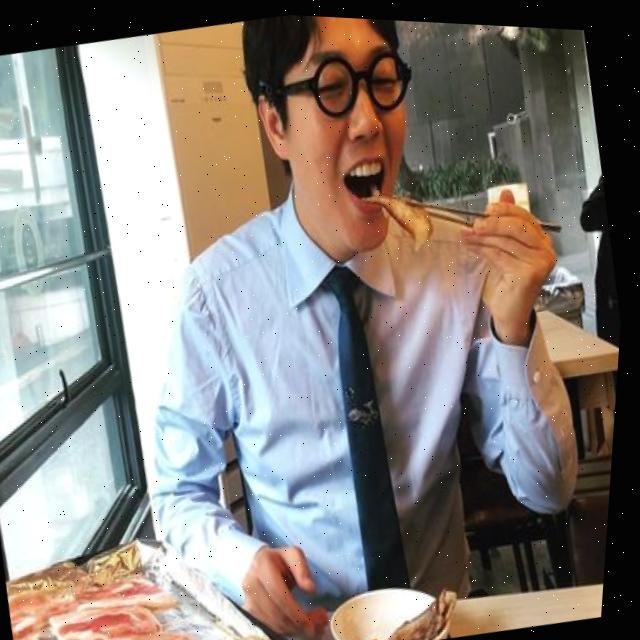eating-person: (54, 4, 640, 640)
